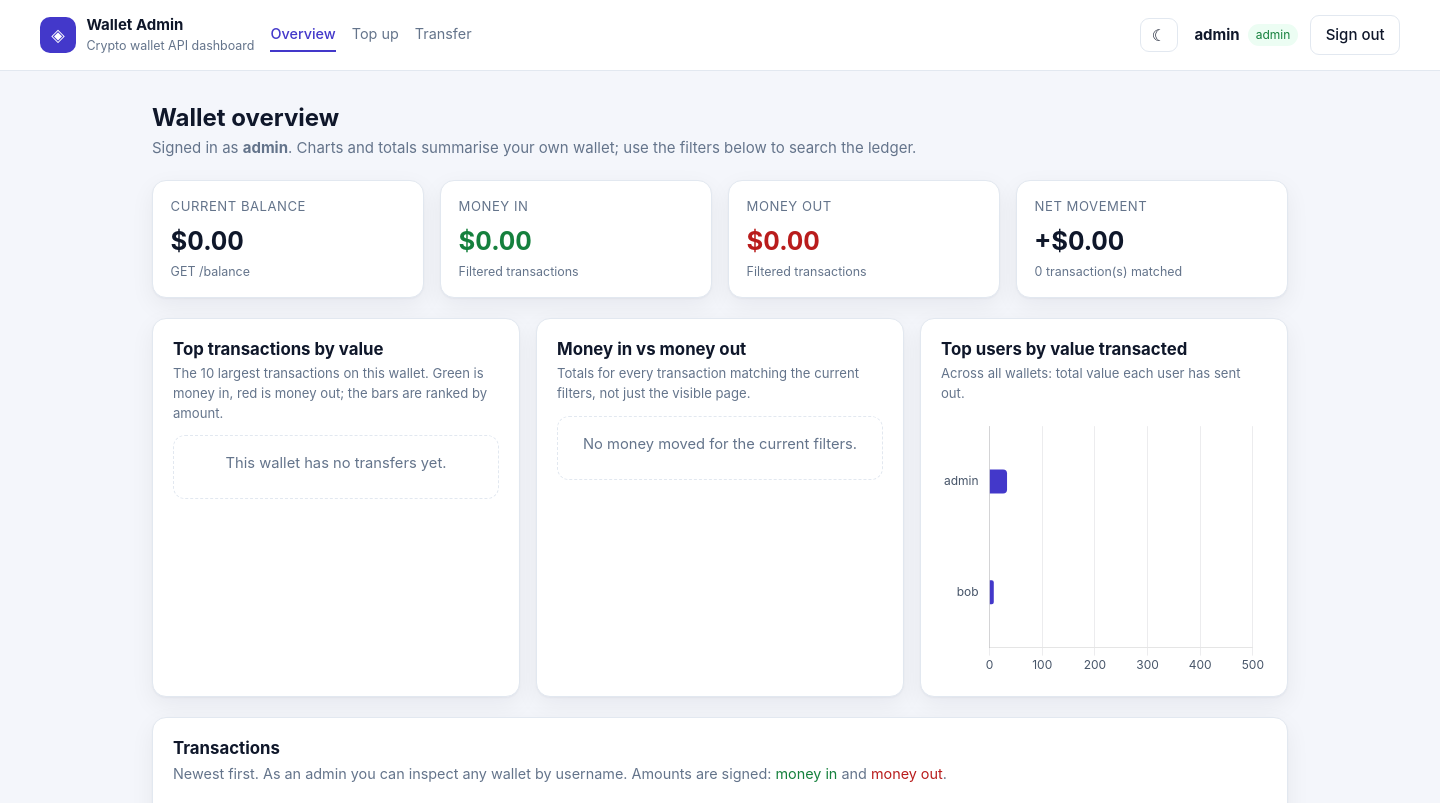
Test: money navigation › reaches both money screens from the dashboard header
Expected: the heading "Wallet overview" is shown, 152,103 -> 339,132
Click the link "Top up" at (375, 34), box 352,25 -> 399,42
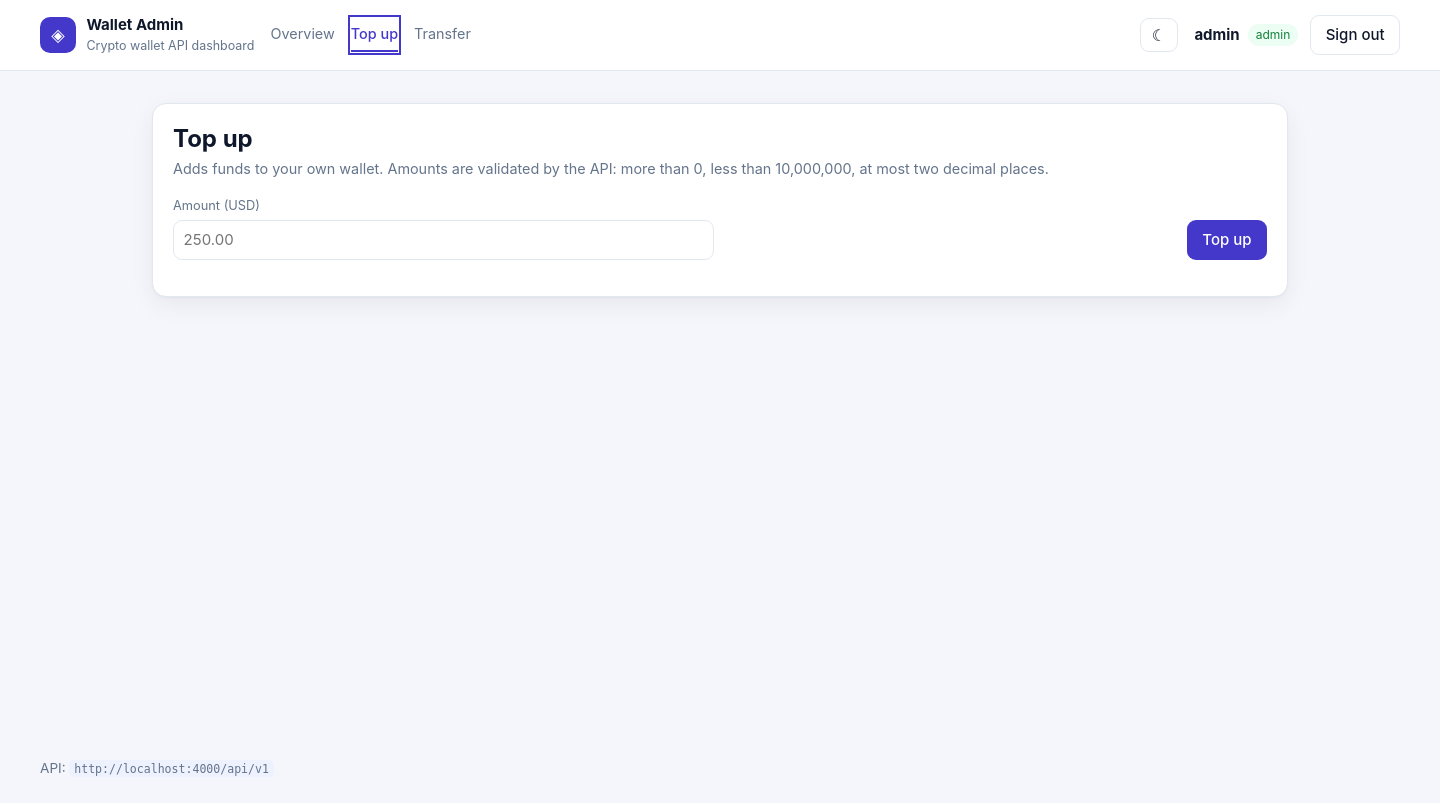
Expected: the heading "Top up" is shown, 173,124 -> 253,153
Click the link "Transfer" at (442, 34), box 414,25 -> 471,42
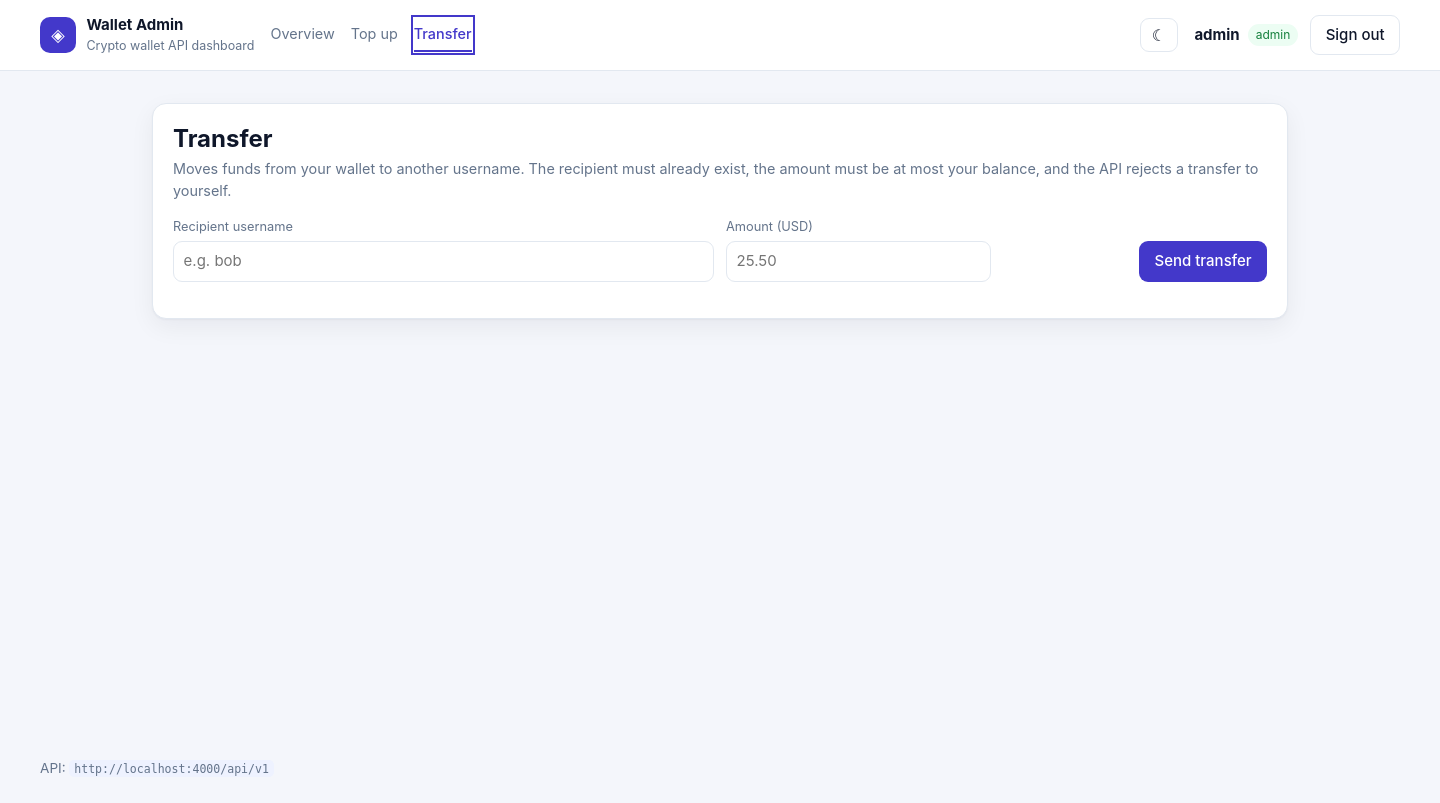
Expected: the heading "Transfer" is shown, 173,124 -> 272,153
